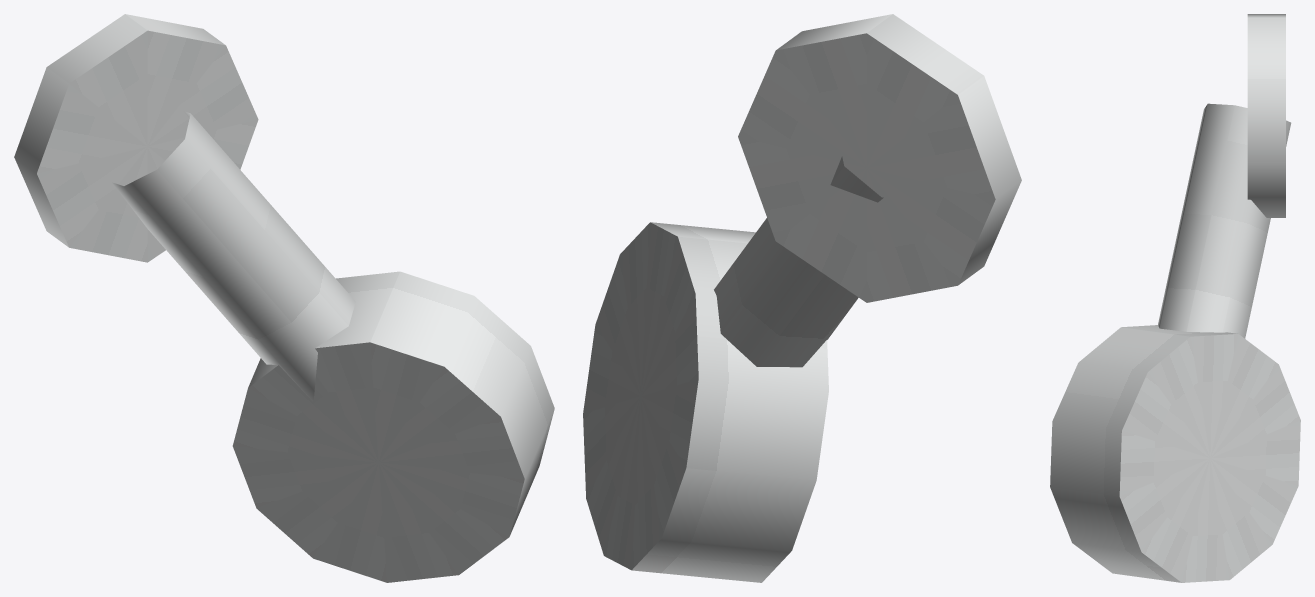
Rendered from nycsignalarm_stub_99.obj.
The picture shows the model from 3 angles, left to right: view 1: azimuth 30°, elevation 25°; view 2: azimuth 150°, elevation 25°; view 3: azimuth 270°, elevation 25°; orthographic projection. The views are drawn at different scales.
Visible parts, largest first — view 1: nycsignalarm_stub_99; view 2: nycsignalarm_stub_99; view 3: nycsignalarm_stub_99.
Part boxes in pixels (box(x1,y1,x2,y2)): nycsignalarm_stub_99: box(14, 14, 554, 582); nycsignalarm_stub_99: box(583, 14, 1021, 582); nycsignalarm_stub_99: box(1050, 14, 1300, 582).
Bounding box in the file's own units: 0.6984 × 0.8454 × 0.4044.
